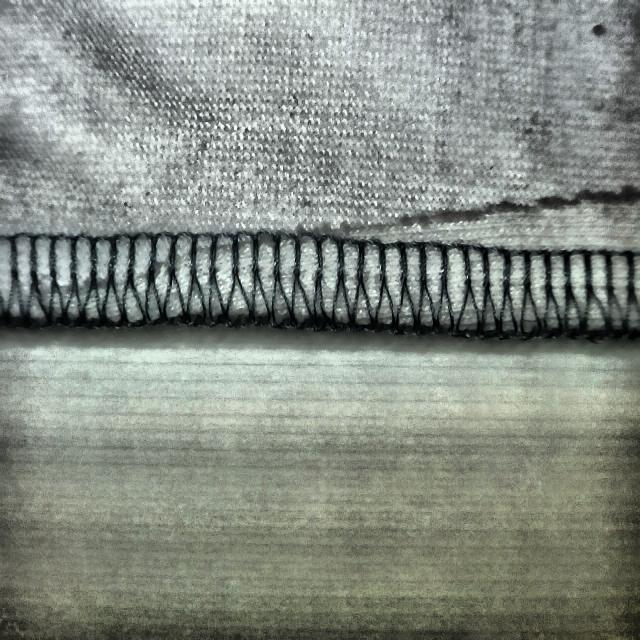seam: (332, 154, 640, 339)
